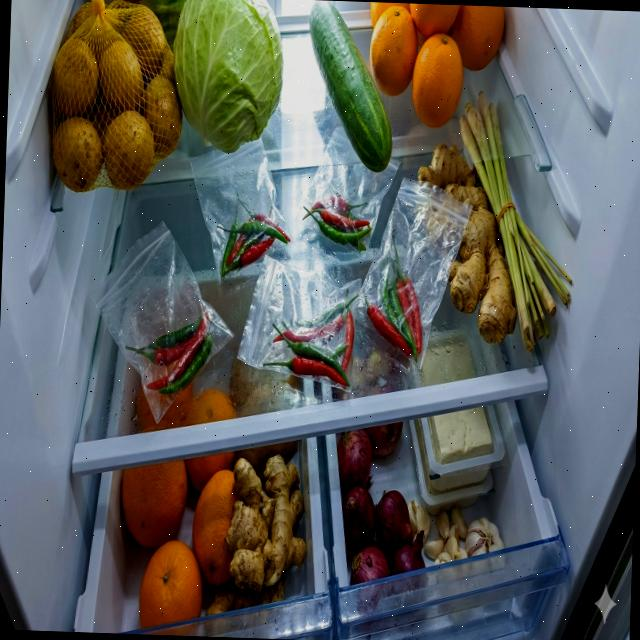cabbage: (169, 0, 285, 155)
chili: (263, 285, 359, 386), (362, 230, 426, 362), (124, 308, 214, 396), (215, 188, 292, 278), (301, 190, 374, 254)
cucumber: (303, 0, 396, 173)
garlic: (405, 498, 506, 568)
ginger: (411, 143, 522, 345), (204, 452, 310, 618)
lemongrass: (451, 89, 579, 354)
onion: (331, 418, 430, 588)
orange: (117, 447, 237, 631), (366, 2, 505, 130)
potato: (46, 0, 186, 197)
tofu: (418, 340, 496, 466)
